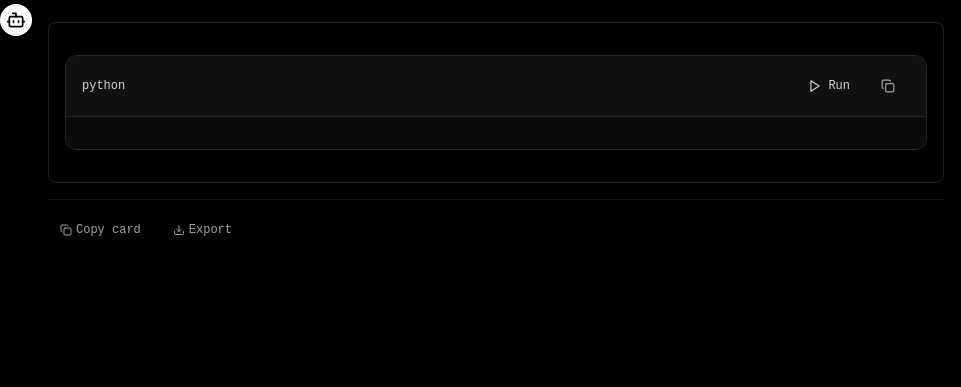
Test: manual Python execution › runs a displayed Python block only after the user clicks Run
The width and height of the screenshot is (961, 387).
Click the button with aria-label "Run Python code".
click(829, 86)  # box [798, 64, 860, 108]
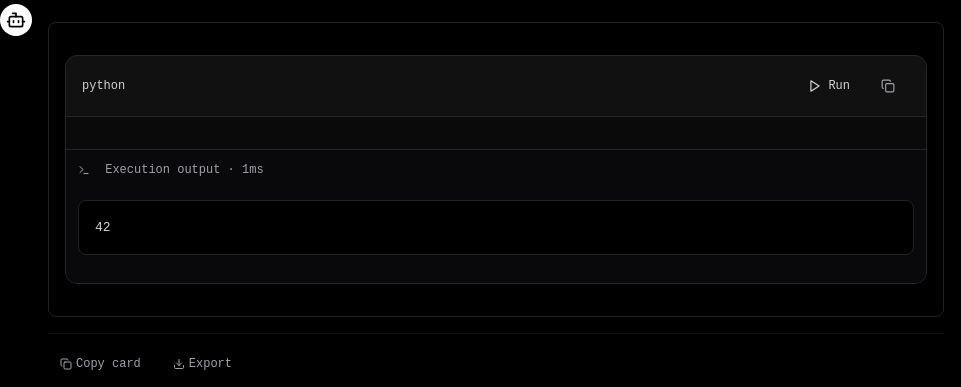
Check: the text "42" is shown, box [78, 200, 914, 255]
